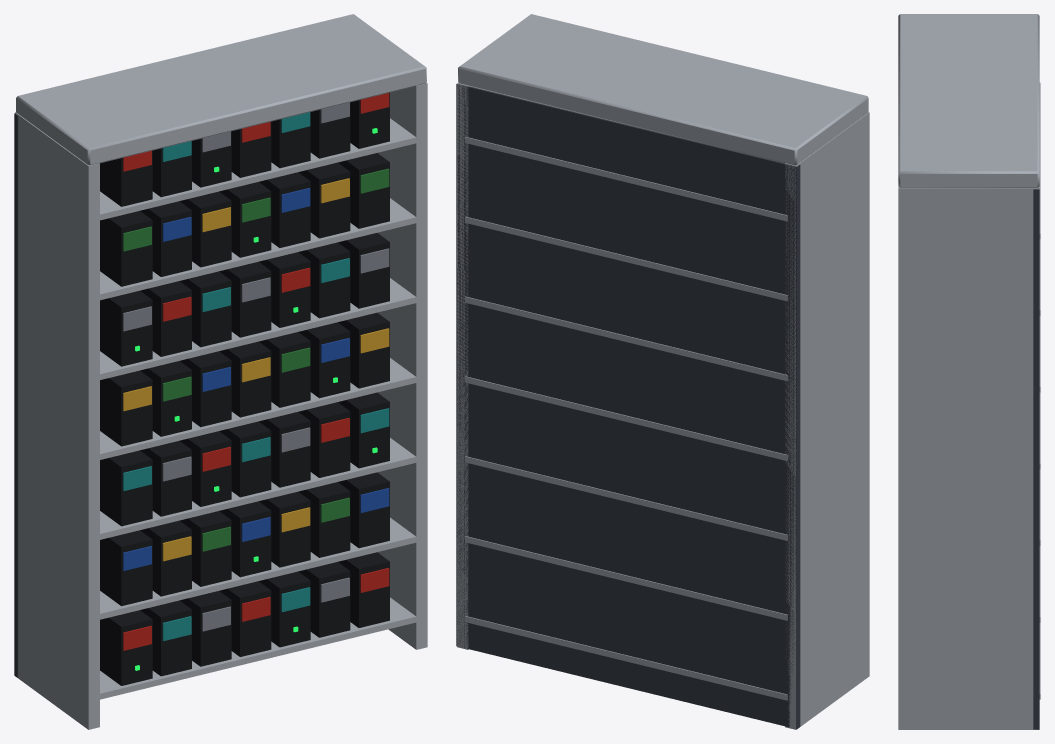
Rendered from storage_cartridge_library_shelves.glb.
3 views of the same model, side by side, from view 1: azimuth 30°, elevation 25°; view 2: azimuth 150°, elevation 25°; view 3: azimuth 270°, elevation 25° (orthographic). The views are drawn at different scales.
Visible parts, largest first — view 1: storage_cartridge_library_shelves; view 2: storage_cartridge_library_shelves; view 3: storage_cartridge_library_shelves.
Part boxes in pixels (bbox=[...]): storage_cartridge_library_shelves: bbox=[14, 14, 427, 729]; storage_cartridge_library_shelves: bbox=[456, 14, 869, 729]; storage_cartridge_library_shelves: bbox=[898, 14, 1040, 729].
Bounding box in the file's own units: 1.21 × 1.96 × 0.453.
